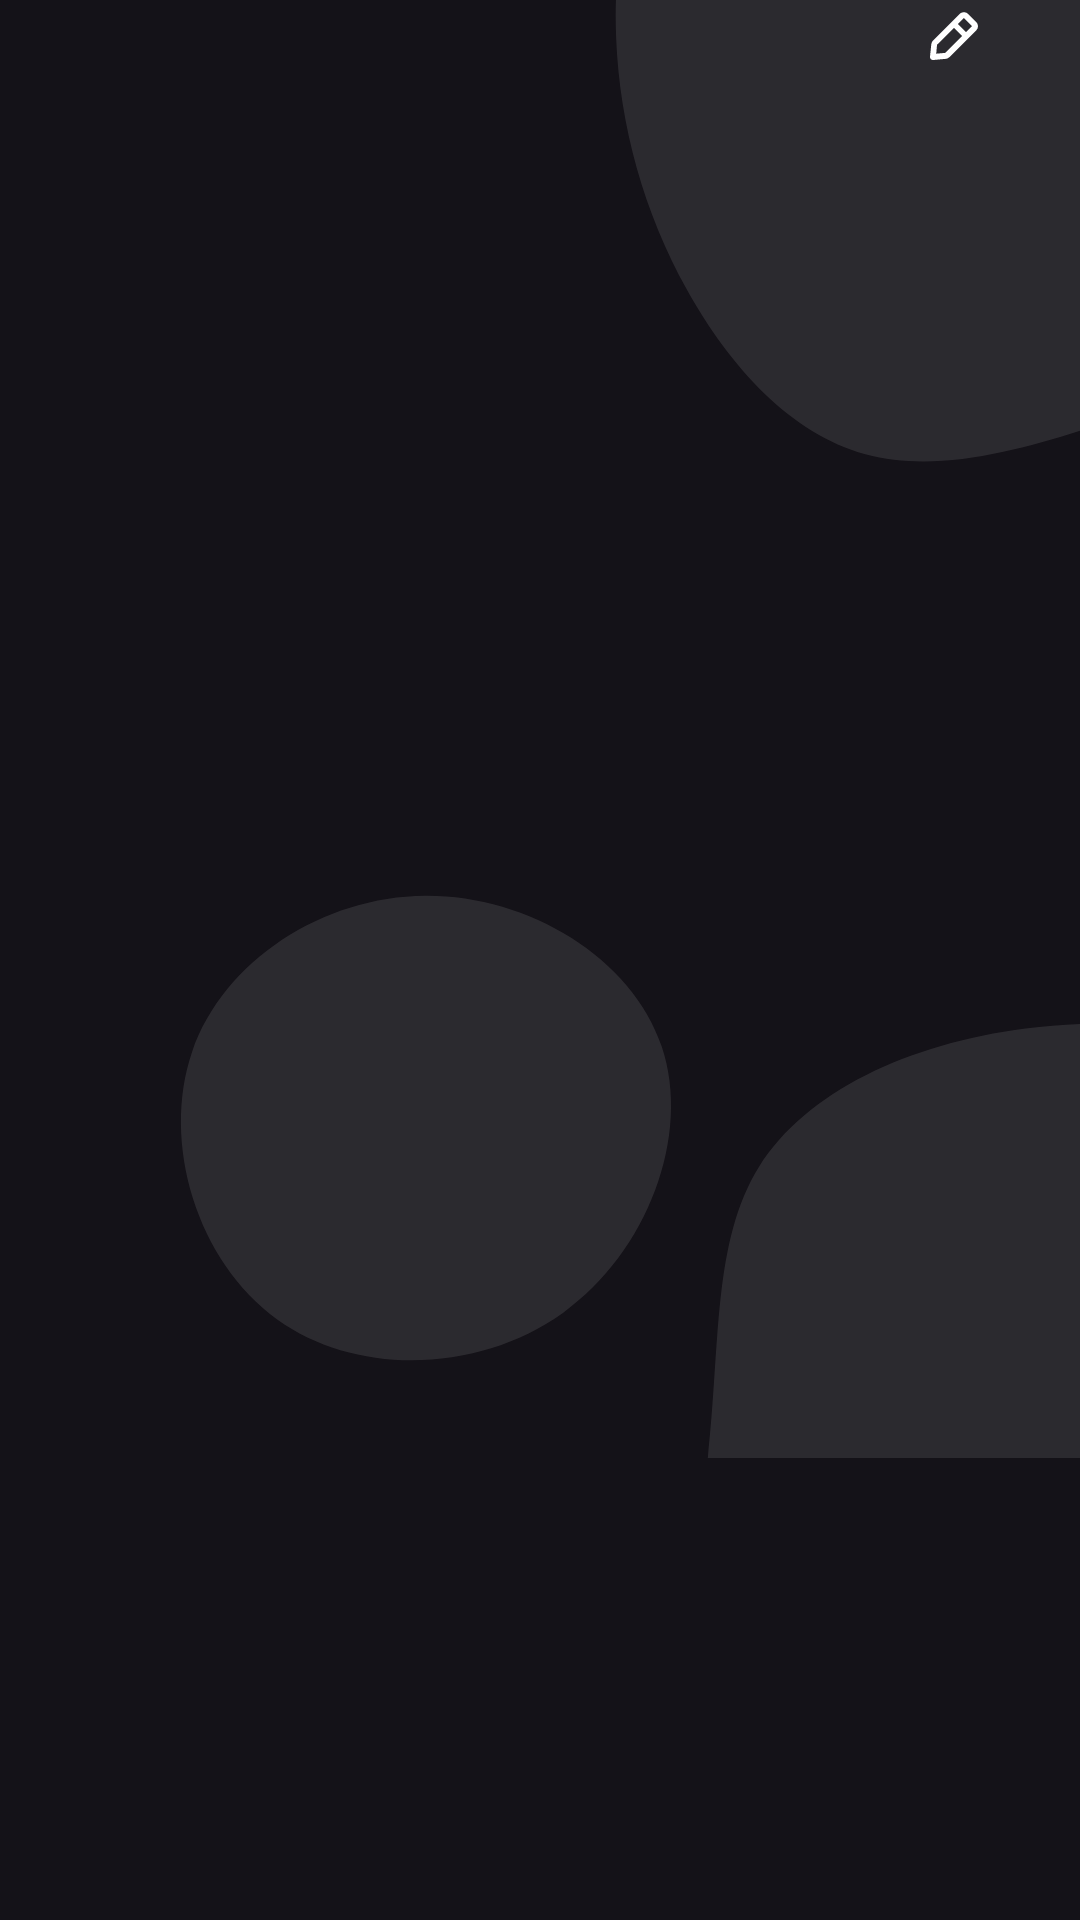

Named icons in this screenshot (1080px×1920px) and their centers, (x,y):
edit: (954,36)
